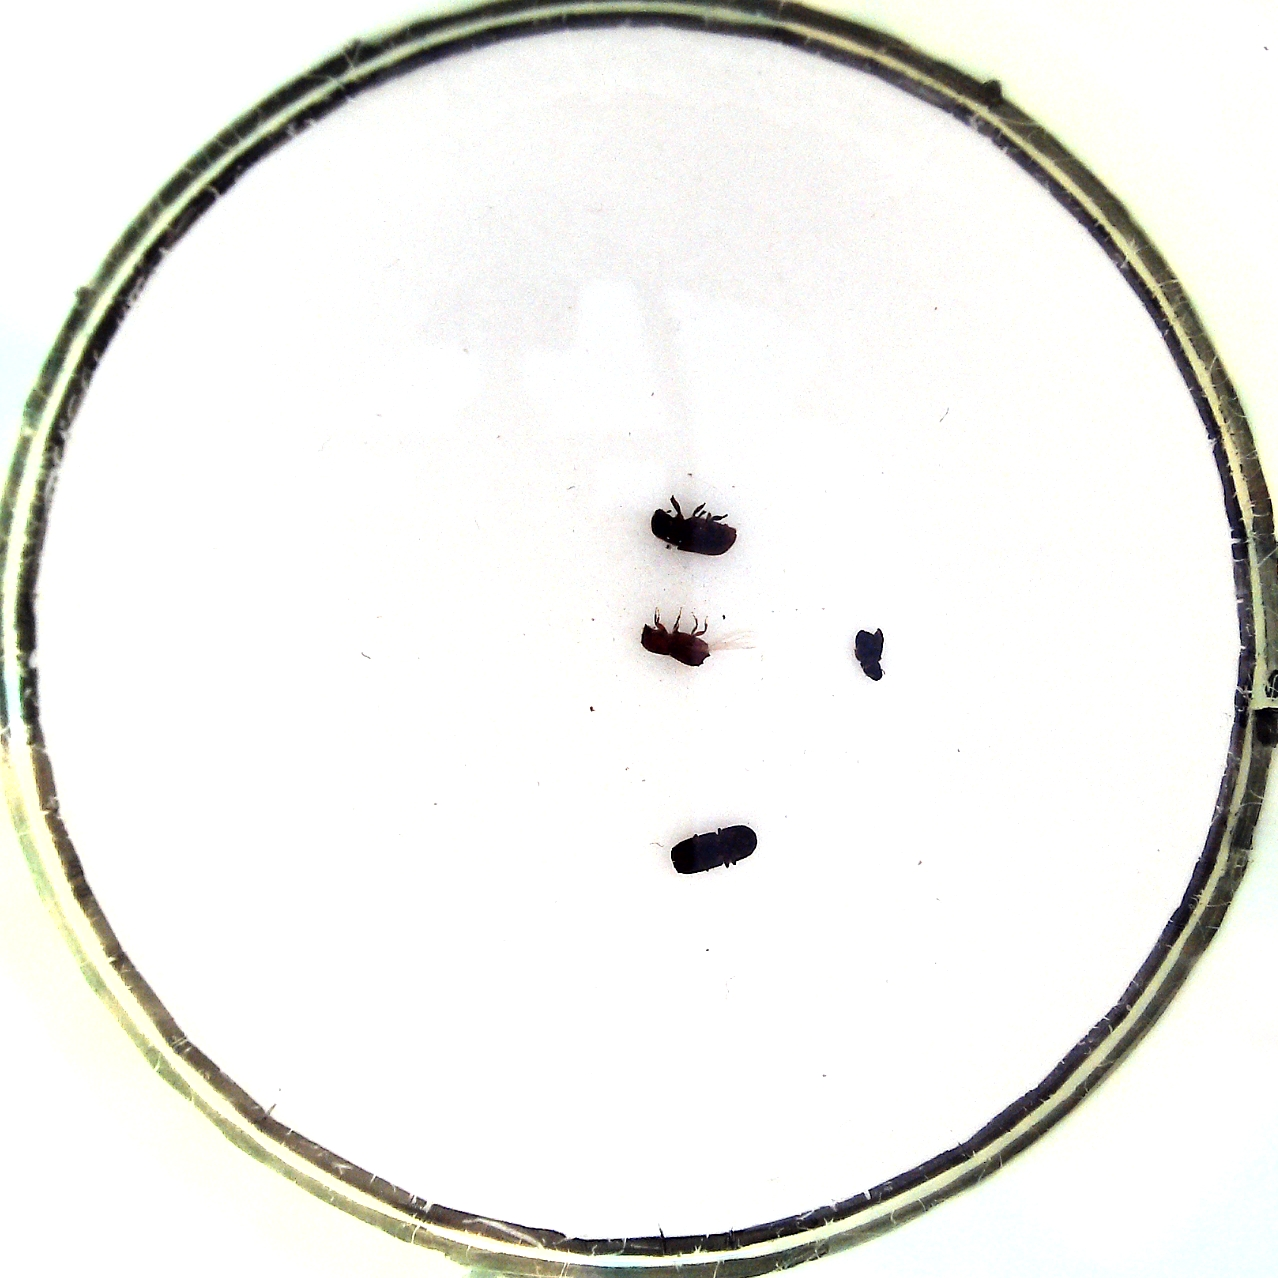Linnaeus: (664, 818, 762, 880)
acuminatus: (635, 609, 729, 669)
armandi: (647, 495, 738, 561)
coleoptera: (851, 623, 889, 685)
